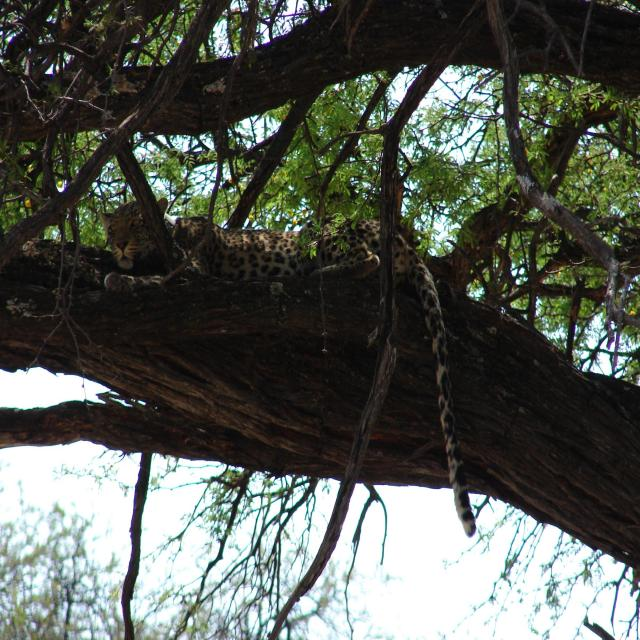Leopard: (101, 199, 472, 542)
